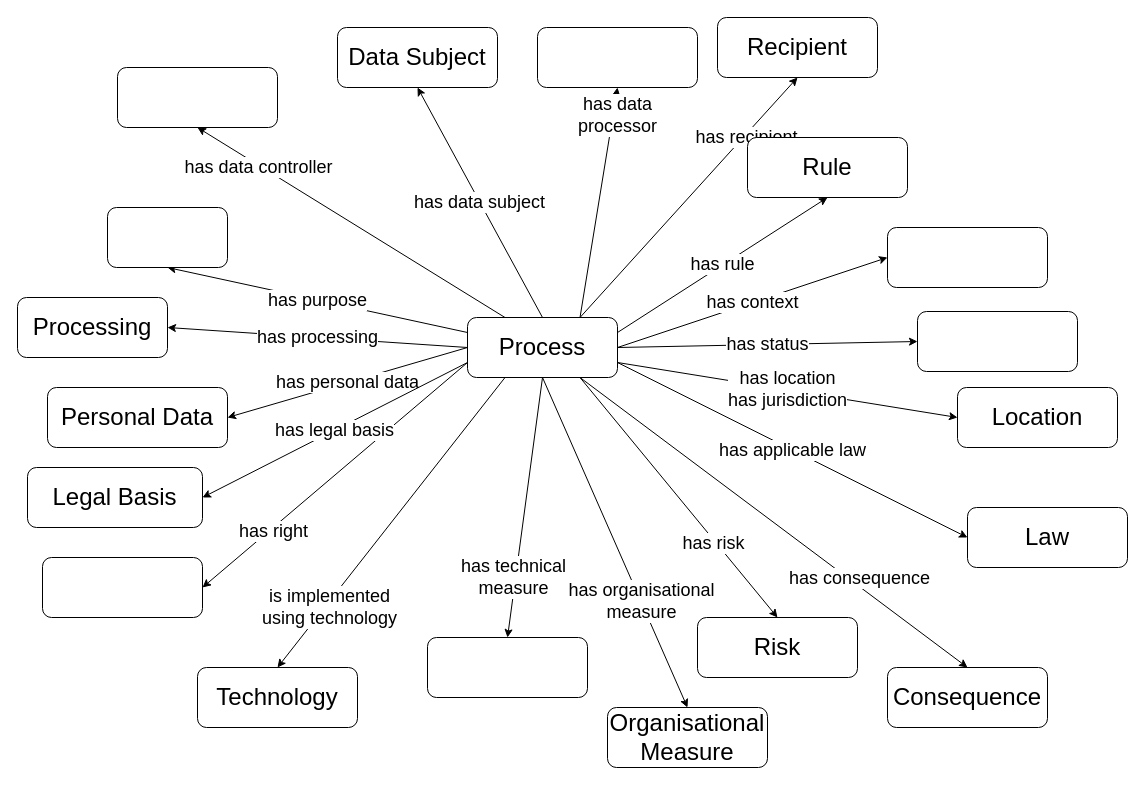
The diagram is 1145 pixels wide and 785 high, and some of its shapes have lost their labels. The shapes that lost their labels are listed below. From the top down, each one's centre as x and y in pixels, then its label:
point (617, 57): Data Processor
point (197, 97): Data Controller
point (167, 237): Purpose
point (967, 257): Context
point (997, 341): Status
point (122, 587): Right
point (507, 667): Technical Measure
